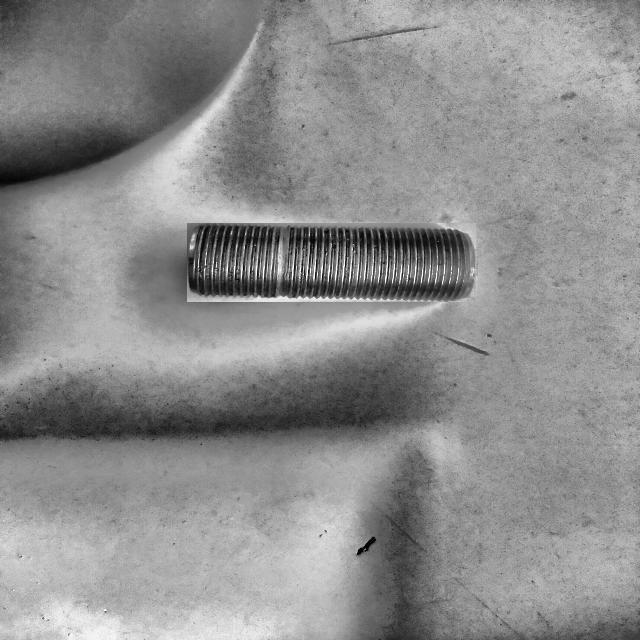Broken: (188, 223, 478, 302)
